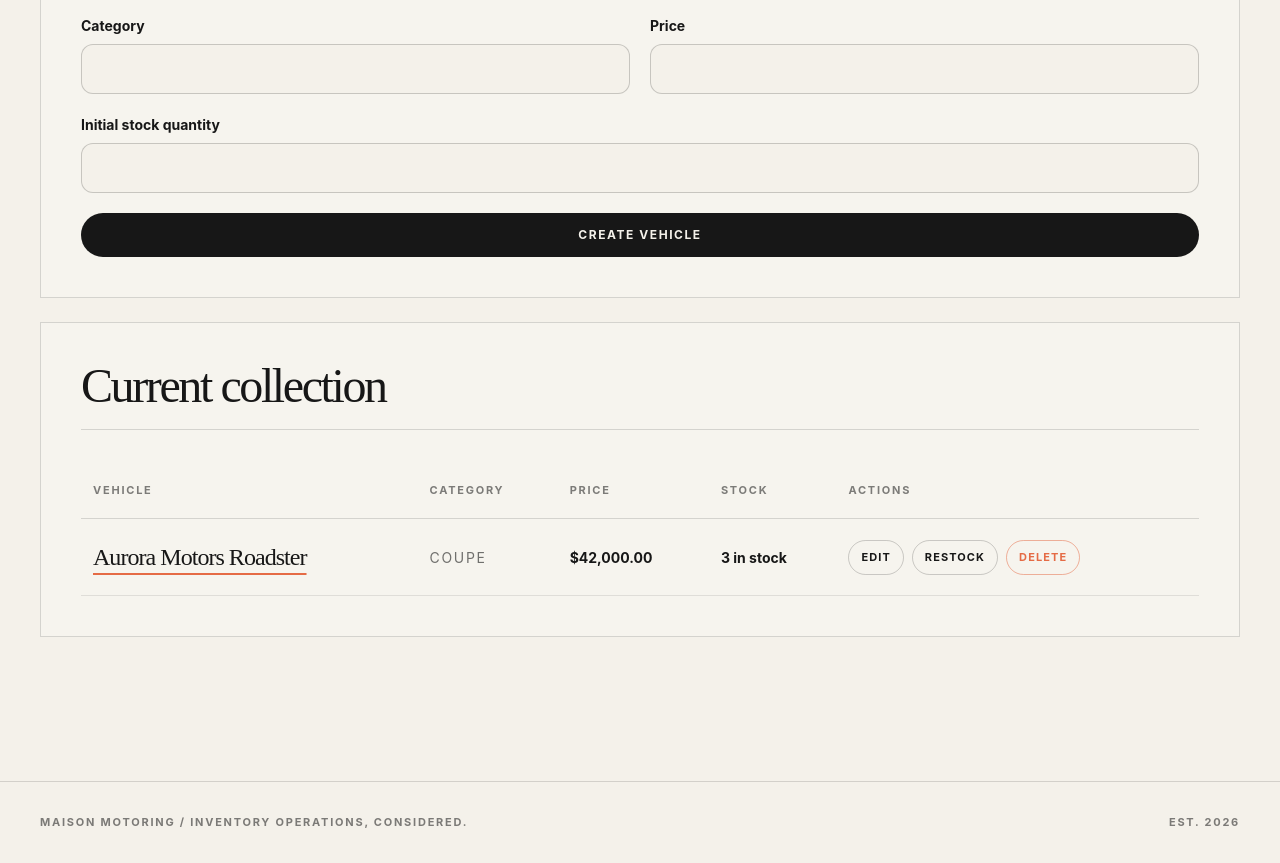
Test: /admin/inventory admin vehicle management › edits a vehicle with a full replacement payload and refreshes the list
(page scrolled)
Click the button with aria-label "edit aurora motors roadster": (876, 557) top-left (848, 540), bottom-right (904, 574)
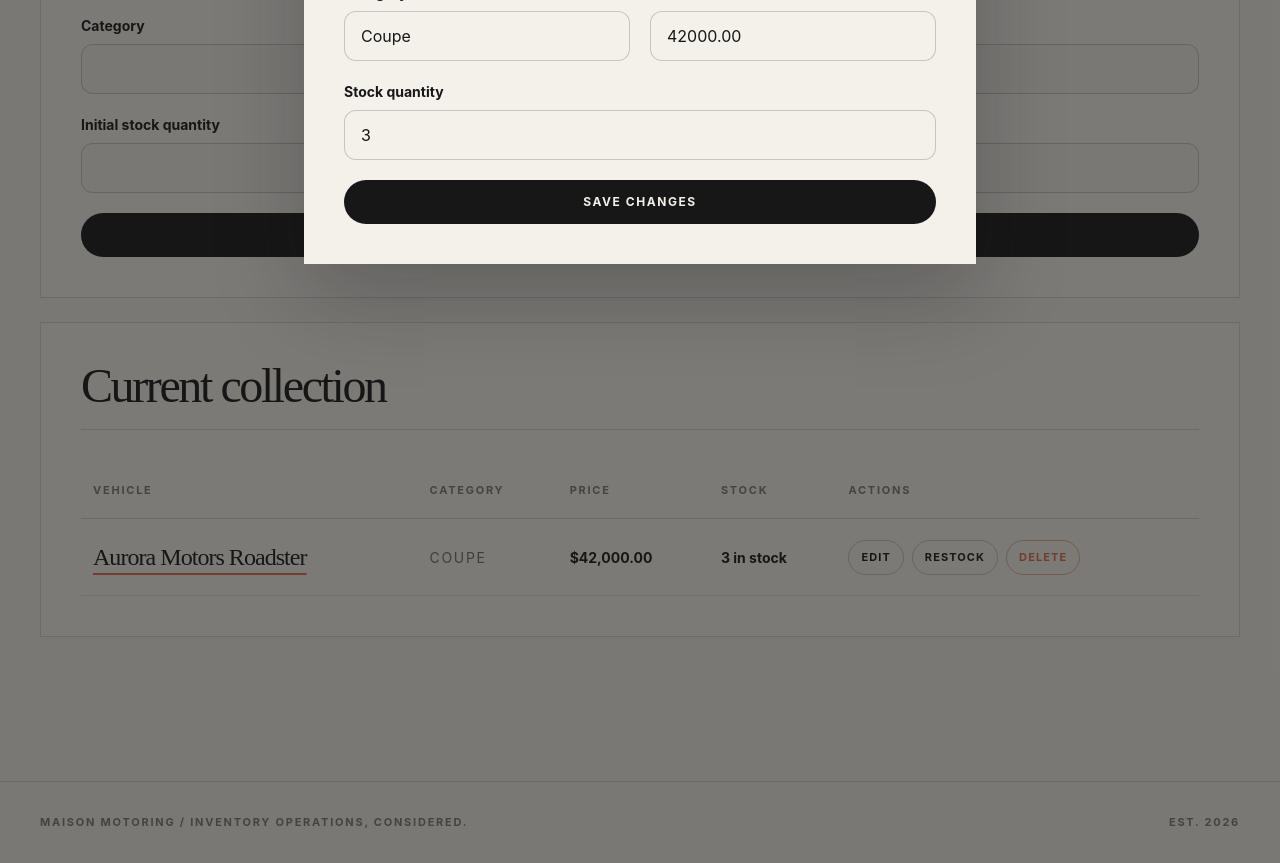
Replace the text in the number field labelled "Price" with "43000": (793, 36) top-left (650, 11), bottom-right (936, 61)
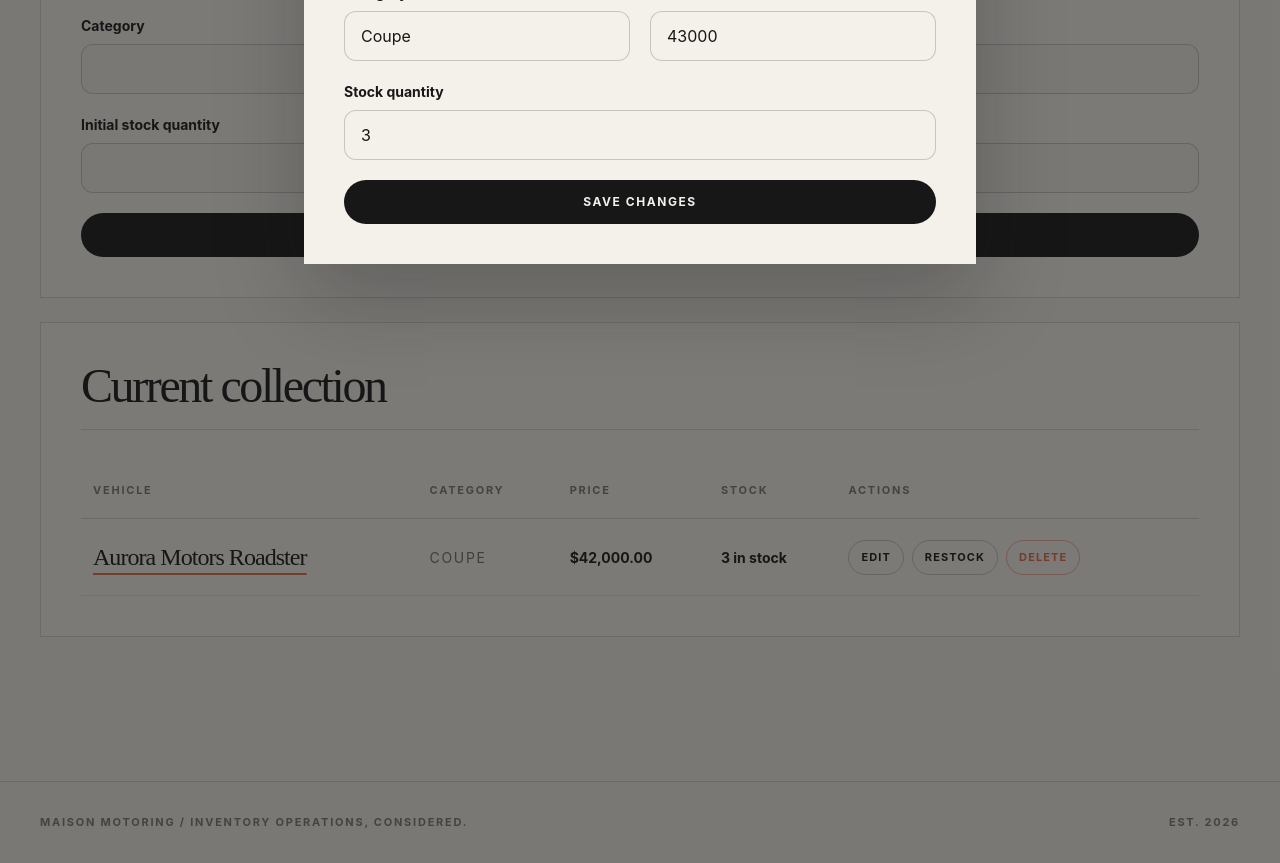
Replace the text in the number field labelled "Stock quantity" with "5": (640, 135) top-left (344, 110), bottom-right (936, 160)
(page scrolled)
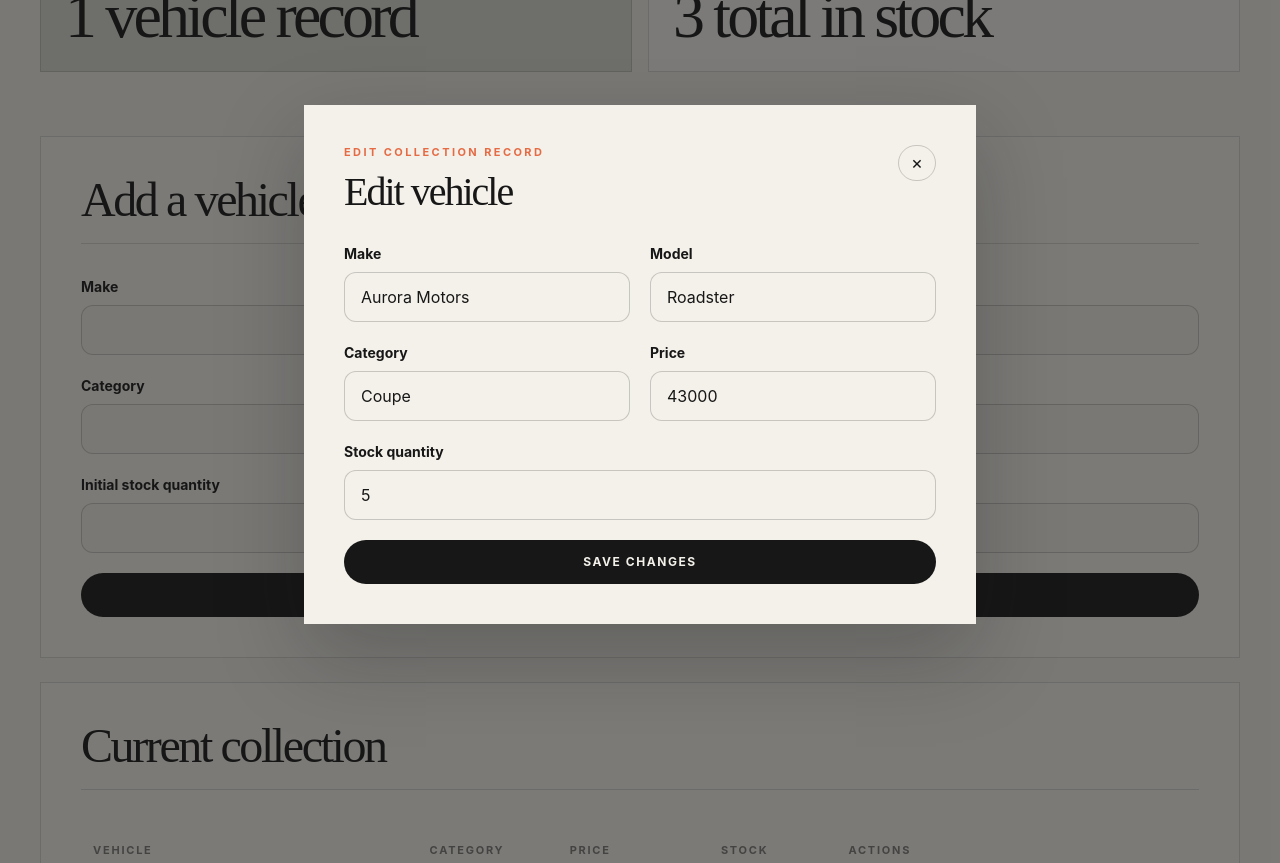
Submit the form named "edit vehicle", box top-left (344, 243), bottom-right (936, 584)
(page scrolled)
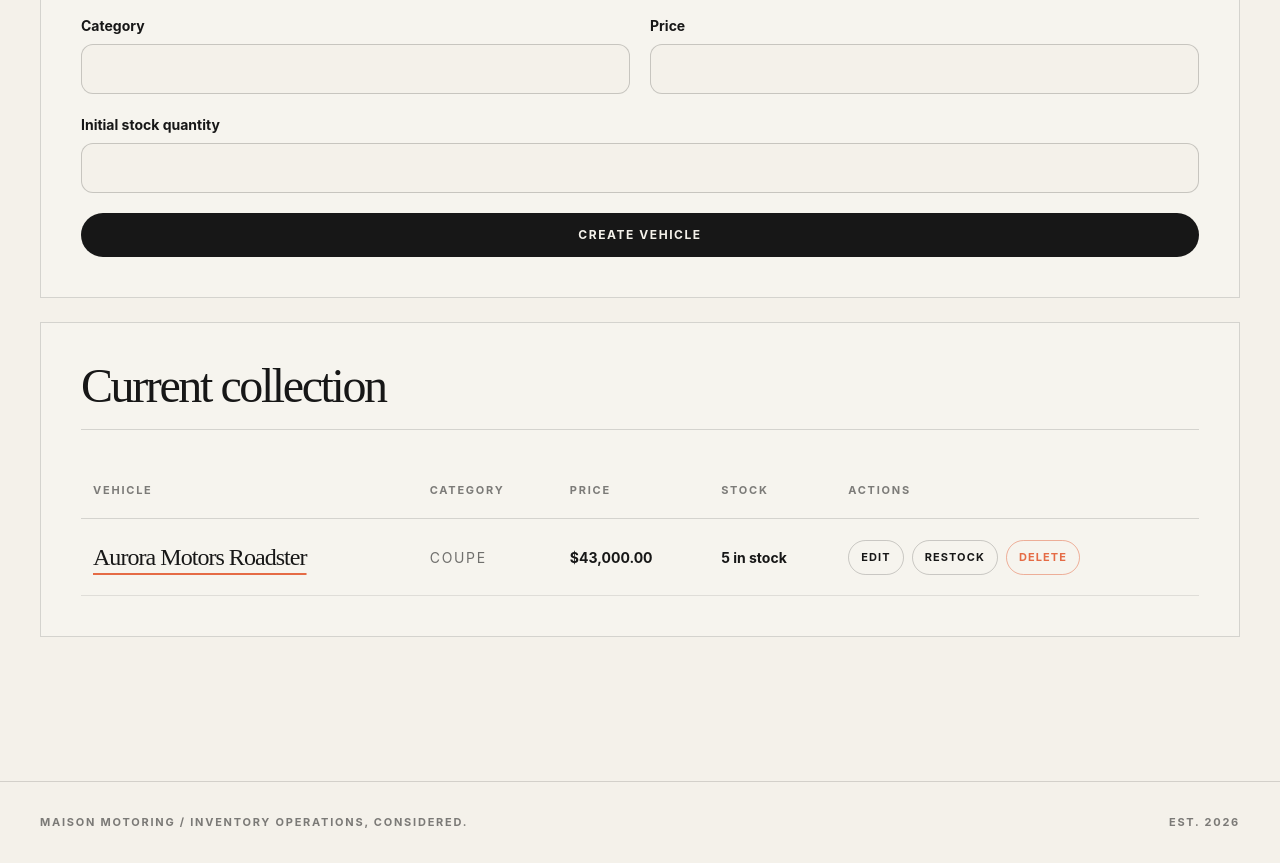
Expected: the text "$43,000.00" is shown, top-left (558, 519), bottom-right (709, 596)
